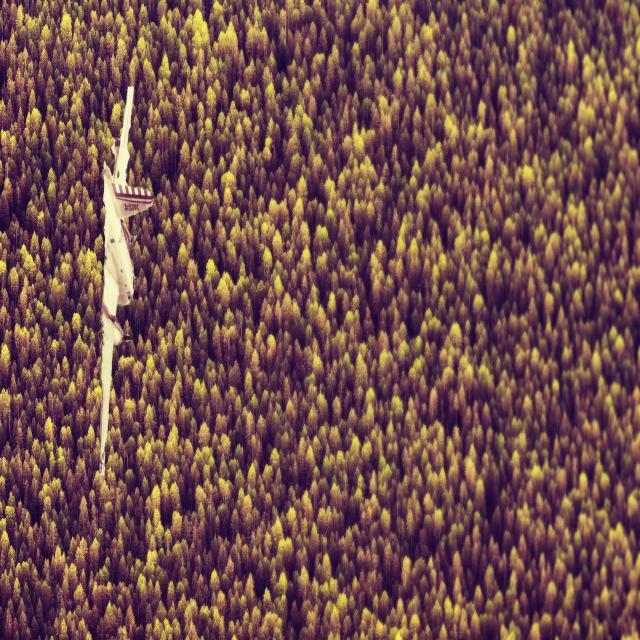airplane: (98, 84, 154, 481)
